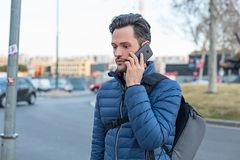phone: (131, 44, 153, 71)
talk: (111, 40, 153, 87)
